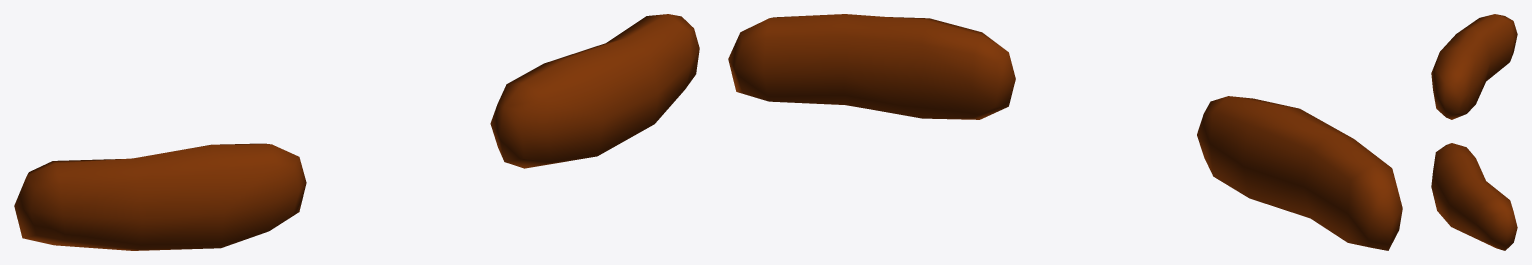
Rendered from Eyebrows_01_02.fbx.
3 renders of one model, left to right at view 1: azimuth 30°, elevation 25°; view 2: azimuth 150°, elevation 25°; view 3: azimuth 270°, elevation 25°, orthographic. The views are drawn at different scales.
Visible parts, largest first — view 1: Eyebrows_01_02; view 2: Eyebrows_01_02; view 3: Eyebrows_01_02.
Part boxes in pixels (left/top/right/bottom): Eyebrows_01_02: left=14, top=14, right=699, bottom=250; Eyebrows_01_02: left=728, top=14, right=1402, bottom=250; Eyebrows_01_02: left=1431, top=14, right=1517, bottom=250.
Size of the model in its own units: 18.54 by 2.63 by 3.34.
